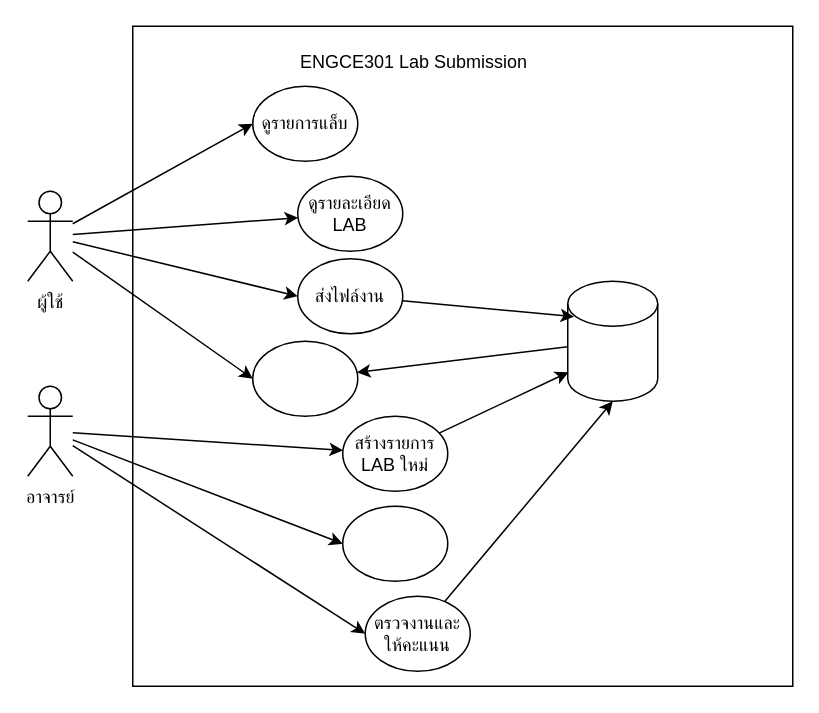
Image size: 819x713. Some labels were removed from this diagram. The shapes that lost their labels are listed below. From the top down, each one's centre as x and y in pixels, then its label:
At point (612, 340): "ฐานข้อมูล".
At point (304, 378): "เช็กสถานะและคะแนน".
At point (394, 543): "ดูรายชื่อคนส่งงาน".
